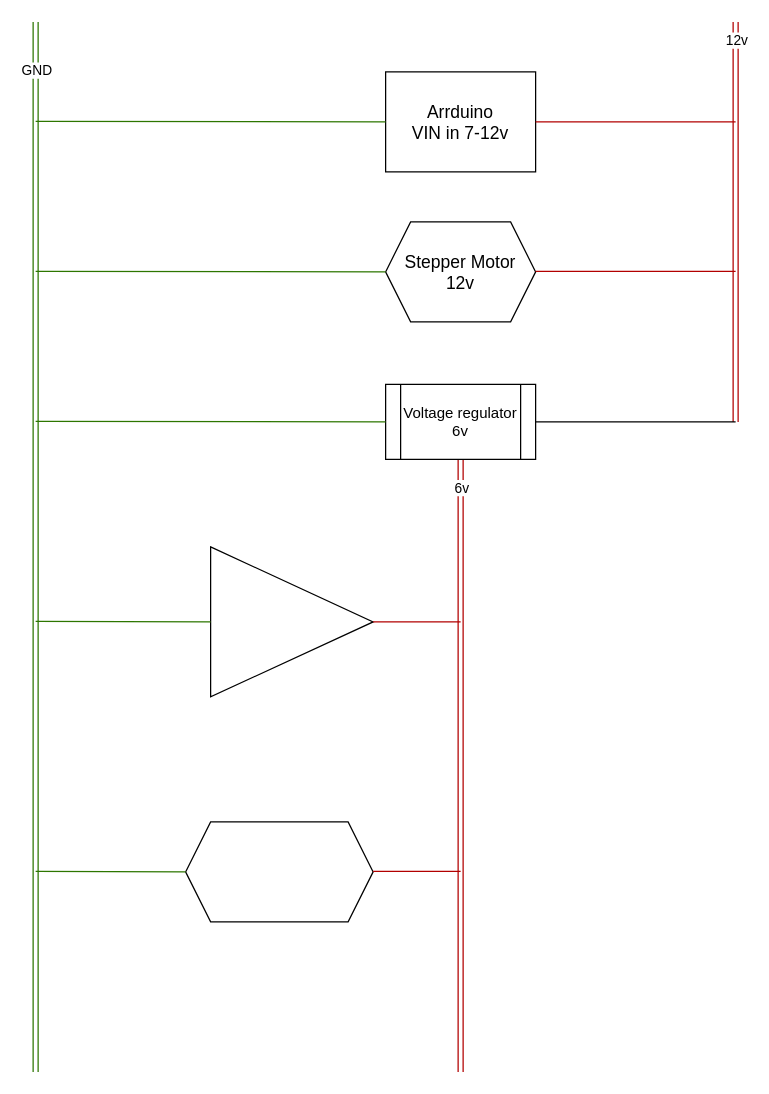
Image size: 769x1094. Some labels were removed from this diagram. Each missing label, with the centre of its shape:
"Nerf Gun 6v" belongs at (291,621).
"Servo Motor 6v" belongs at (278,871).
